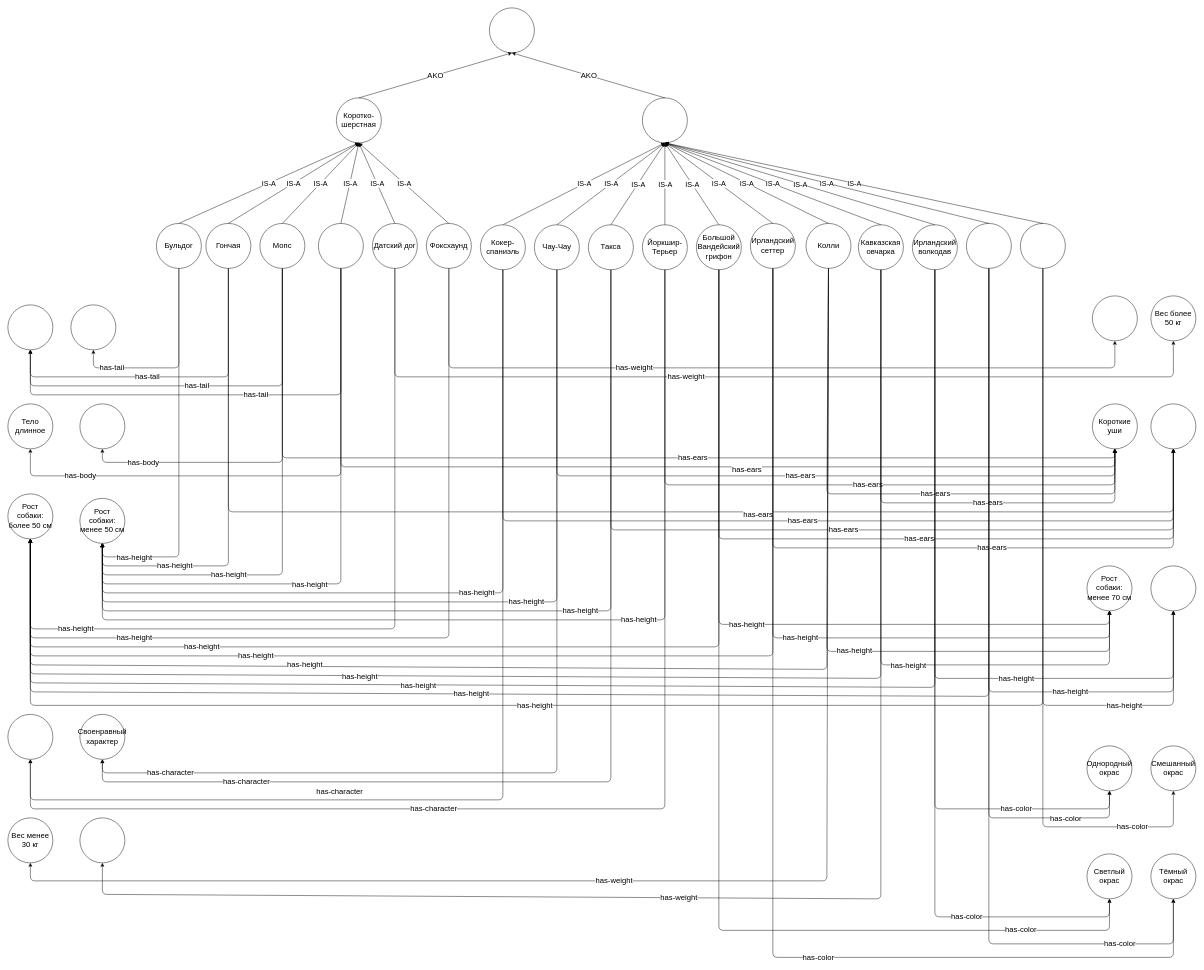
Some shapes in this 1204 by 970 pixel diagram are drawn without their labels. The centre of each missing label's shape, as x and y in pixels:
"Вес более 30 кг" goes at (102,840).
"Вес менее 50 кг" goes at (1114,318).
"Длинно-шерстная" goes at (664,120).
"Длинные уши" goes at (1173,426).
"Длинный хвост" goes at (30,327).
"Добрый характер" goes at (30,736).
"Короткий хвост" goes at (93,327).
"Ньюфаун дленд" goes at (988,245).
"Порода" goes at (511,30).
"Рост собаки: более 70 см" goes at (1173,588).
"Сенбернар" goes at (1042,245).
"Тело короткое" goes at (102,426).
"Чихуахуа" goes at (340,245).
